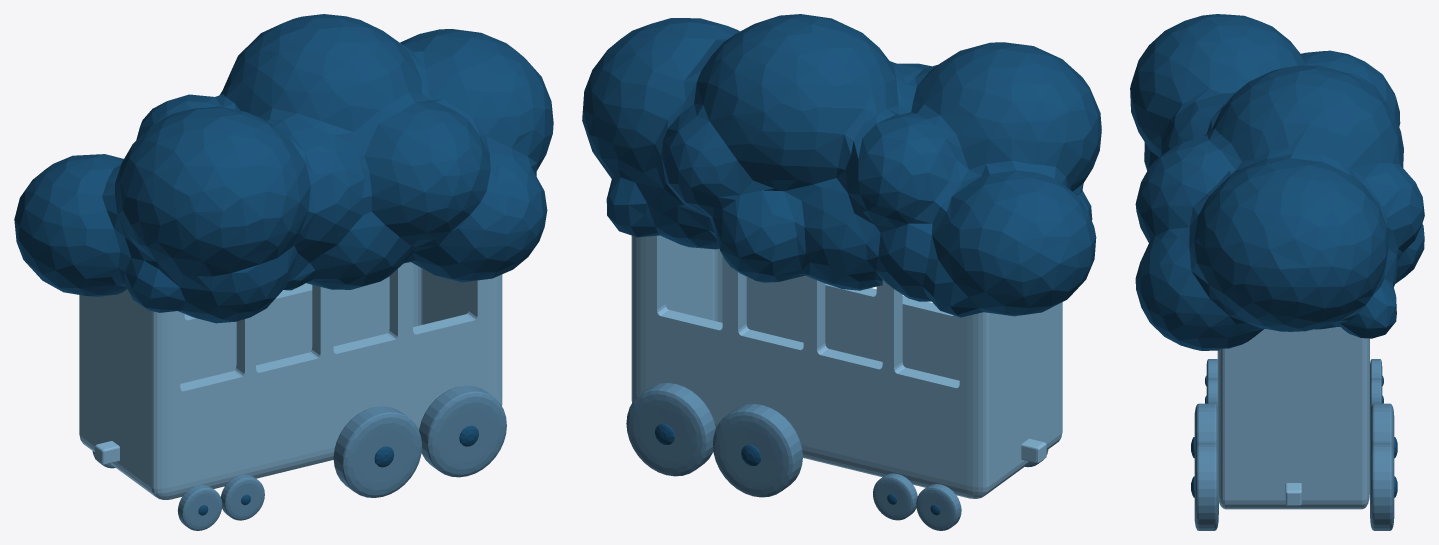
Rendered from wagons_batterie.glb.
3 views of the same model, side by side, from view 1: azimuth 30°, elevation 25°; view 2: azimuth 150°, elevation 25°; view 3: azimuth 270°, elevation 25° (orthographic). The views are drawn at different scales.
Parts seen in each view (by area): view 1: wagon_cheveu_main, wagon_moumoutte, roue.008, roue.009, roue.011, roue.010; view 2: wagon_cheveu_main, wagon_moumoutte, roue.007, roue.006, roue.004, roue.005; view 3: wagon_cheveu_main, wagon_moumoutte, roue.006, roue.009, roue.007, roue.008.
Part boxes in pixels (x1=…): wagon_cheveu_main: x1=14, y1=14, x2=553, y2=323; wagon_moumoutte: x1=79, y1=262, x2=502, y2=499; roue.008: x1=333, y1=406, x2=421, y2=497; roue.009: x1=419, y1=385, x2=506, y2=477; roue.011: x1=177, y1=485, x2=222, y2=530; roue.010: x1=221, y1=474, x2=264, y2=520; wagon_cheveu_main: x1=582, y1=14, x2=1101, y2=317; wagon_moumoutte: x1=631, y1=235, x2=1062, y2=498; roue.007: x1=712, y1=404, x2=802, y2=497; roue.006: x1=626, y1=383, x2=715, y2=476; roue.004: x1=916, y1=484, x2=961, y2=530; roue.005: x1=873, y1=473, x2=917, y2=520; wagon_cheveu_main: x1=1130, y1=14, x2=1424, y2=350; wagon_moumoutte: x1=1217, y1=327, x2=1369, y2=509; roue.006: x1=1370, y1=443, x2=1397, y2=530; roue.009: x1=1191, y1=443, x2=1218, y2=530; roue.007: x1=1370, y1=403, x2=1397, y2=458; roue.008: x1=1191, y1=403, x2=1217, y2=458.
Bounding box in the file's own units: 67.31 × 55.73 × 36.18.
